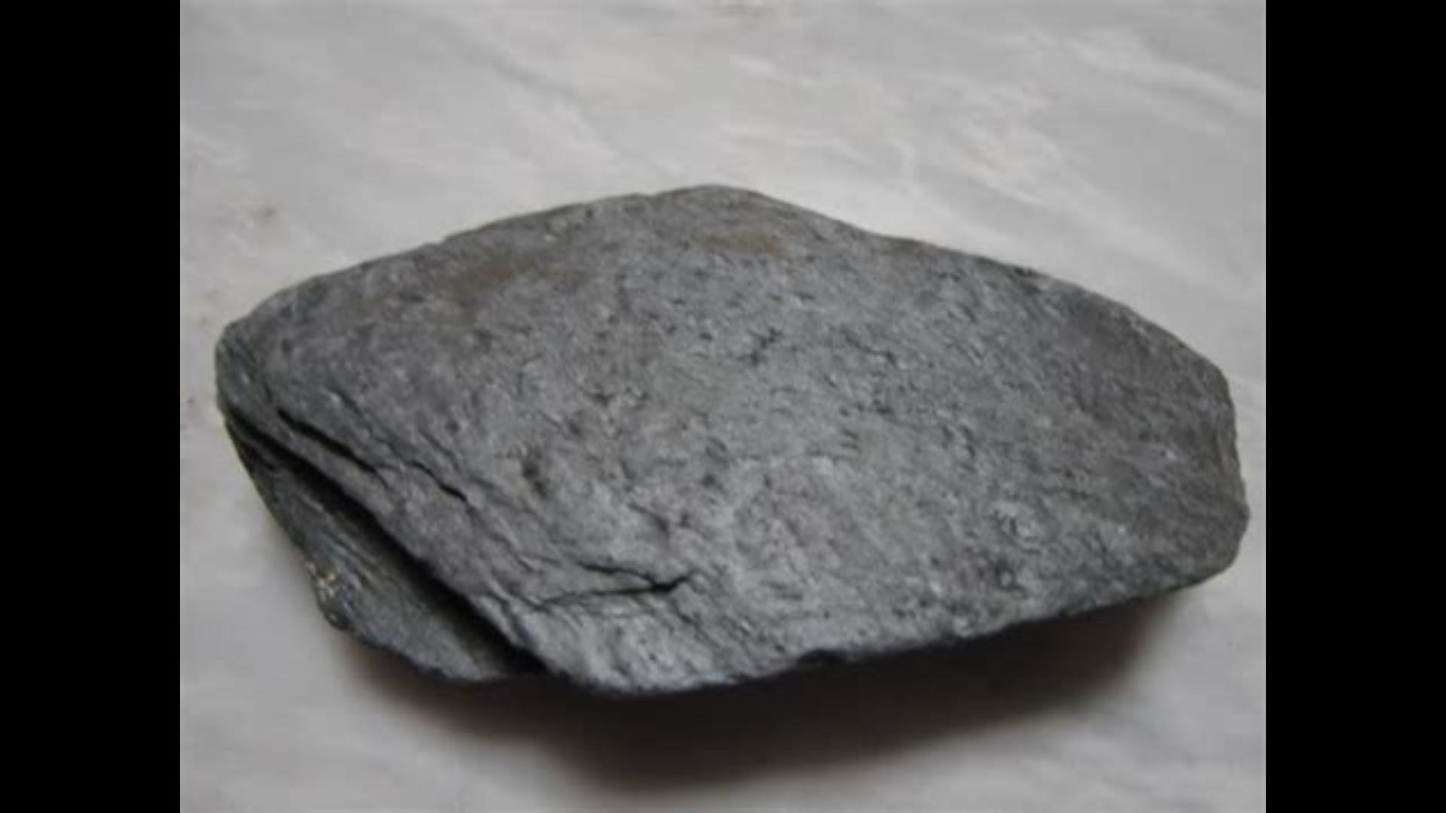rock: (219, 190, 1245, 687)
